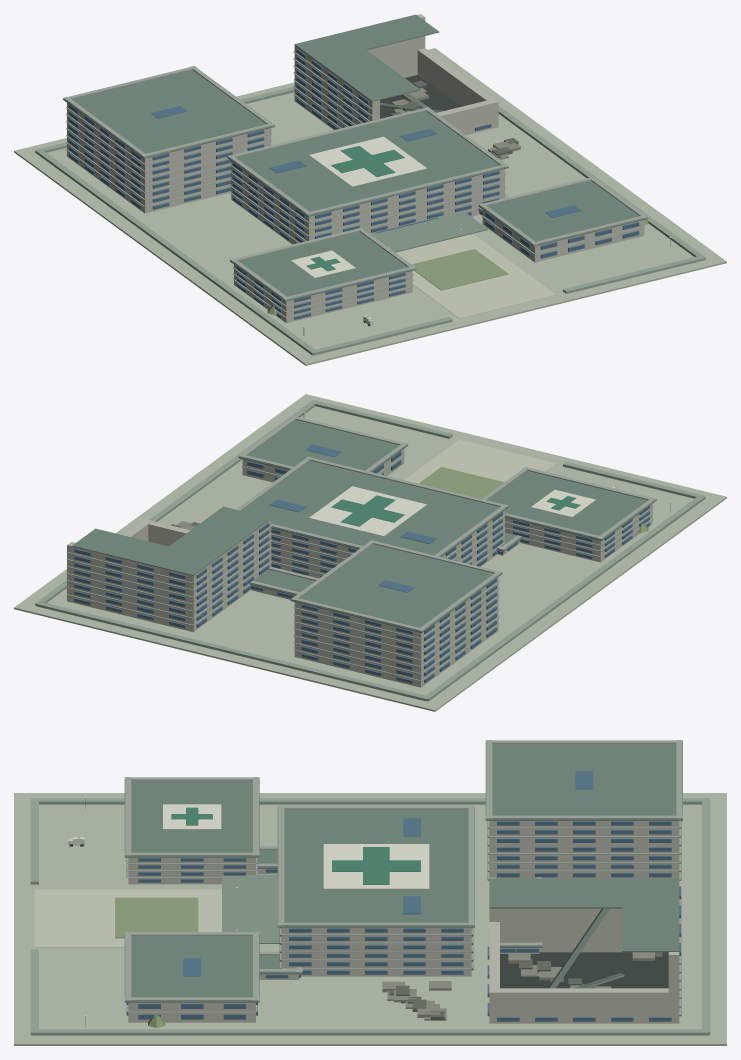
File: hospital-ruined.glb
3 views of the same model, one above another, from view 1: azimuth 30°, elevation 25°; view 2: azimuth 150°, elevation 25°; view 3: azimuth 270°, elevation 25° (orthographic). The views are drawn at different scales.
Visible parts, largest first — view 1: hospital-campus, hospital-main, hospital-west-ward, hospital-east-ward, hospital-emergency, hospital-services, hospital-west-ward-windows, hospital-main-windows, hospital-main-sign, hospital-entrance, hospital-east-ward-windows, hospital-emergency-windows (+3 smaller); view 2: hospital-campus, hospital-west-ward, hospital-east-ward, hospital-main, hospital-emergency, hospital-services, hospital-west-ward-windows, hospital-east-ward-windows, hospital-main-sign, hospital-main-windows, hospital-rear-link, hospital-emergency-windows (+2 smaller); view 3: hospital-campus, hospital-main, hospital-east-ward, hospital-west-ward, hospital-emergency, hospital-services, hospital-main-sign, hospital-west-ward-windows, hospital-main-windows, hospital-entrance, hospital-emergency-sign, hospital-east-rubble (+7 smaller).
Boxes of the visible parts, x1=… form: hospital-campus: x1=14, y1=48, x2=726, y2=365; hospital-main: x1=227, y1=107, x2=508, y2=244; hospital-west-ward: x1=63, y1=66, x2=275, y2=213; hospital-east-ward: x1=293, y1=14, x2=498, y2=134; hospital-emergency: x1=230, y1=227, x2=416, y2=323; hospital-services: x1=478, y1=176, x2=648, y2=262; hospital-west-ward-windows: x1=69, y1=104, x2=264, y2=209; hospital-main-windows: x1=233, y1=162, x2=499, y2=243; hospital-main-sign: x1=309, y1=136, x2=426, y2=186; hospital-entrance: x1=370, y1=211, x2=487, y2=252; hospital-east-ward-windows: x1=296, y1=49, x2=491, y2=130; hospital-emergency-windows: x1=237, y1=267, x2=405, y2=319; hospital-campus: x1=14, y1=394, x2=726, y2=711; hospital-west-ward: x1=290, y1=540, x2=502, y2=687; hospital-east-ward: x1=66, y1=506, x2=272, y2=632; hospital-main: x1=236, y1=456, x2=508, y2=578; hospital-emergency: x1=482, y1=466, x2=656, y2=562; hospital-services: x1=238, y1=416, x2=408, y2=482; hospital-west-ward-windows: x1=301, y1=578, x2=496, y2=683; hospital-east-ward-windows: x1=74, y1=523, x2=269, y2=628; hospital-main-sign: x1=309, y1=486, x2=426, y2=536; hospital-main-windows: x1=271, y1=512, x2=502, y2=577; hospital-rear-link: x1=249, y1=566, x2=318, y2=599; hospital-emergency-windows: x1=513, y1=506, x2=649, y2=558; hospital-campus: x1=14, y1=793, x2=726, y2=1045; hospital-main: x1=277, y1=805, x2=474, y2=976; hospital-east-ward: x1=489, y1=878, x2=680, y2=1023; hospital-west-ward: x1=485, y1=740, x2=682, y2=879; hospital-emergency: x1=124, y1=777, x2=259, y2=884; hospital-services: x1=124, y1=932, x2=259, y2=1022; hospital-main-sign: x1=323, y1=844, x2=429, y2=888; hospital-west-ward-windows: x1=487, y1=821, x2=681, y2=880; hospital-main-windows: x1=279, y1=927, x2=473, y2=974; hospital-entrance: x1=222, y1=875, x2=279, y2=943; hospital-emergency-sign: x1=163, y1=804, x2=221, y2=829; hospital-east-rubble: x1=382, y1=981, x2=451, y2=1020.
Bounding box in the file's own units: 200 × 27.29 × 240.
